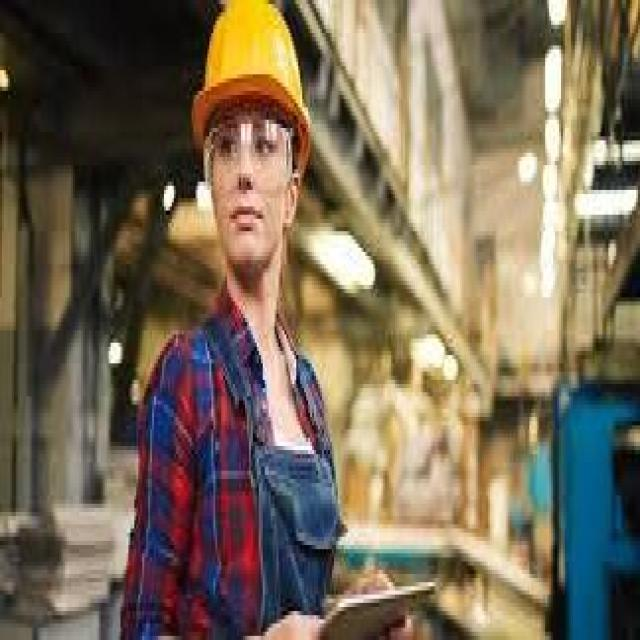Safety-Helmet: (188, 4, 316, 157)
